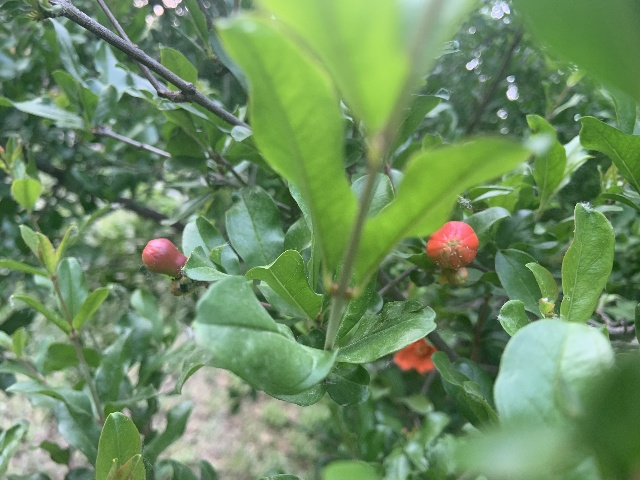bud: (426, 220, 478, 269), (142, 237, 188, 275)
flower: (393, 337, 439, 374)
